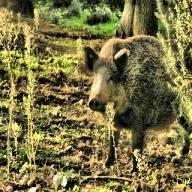boar: (81, 33, 191, 172)
